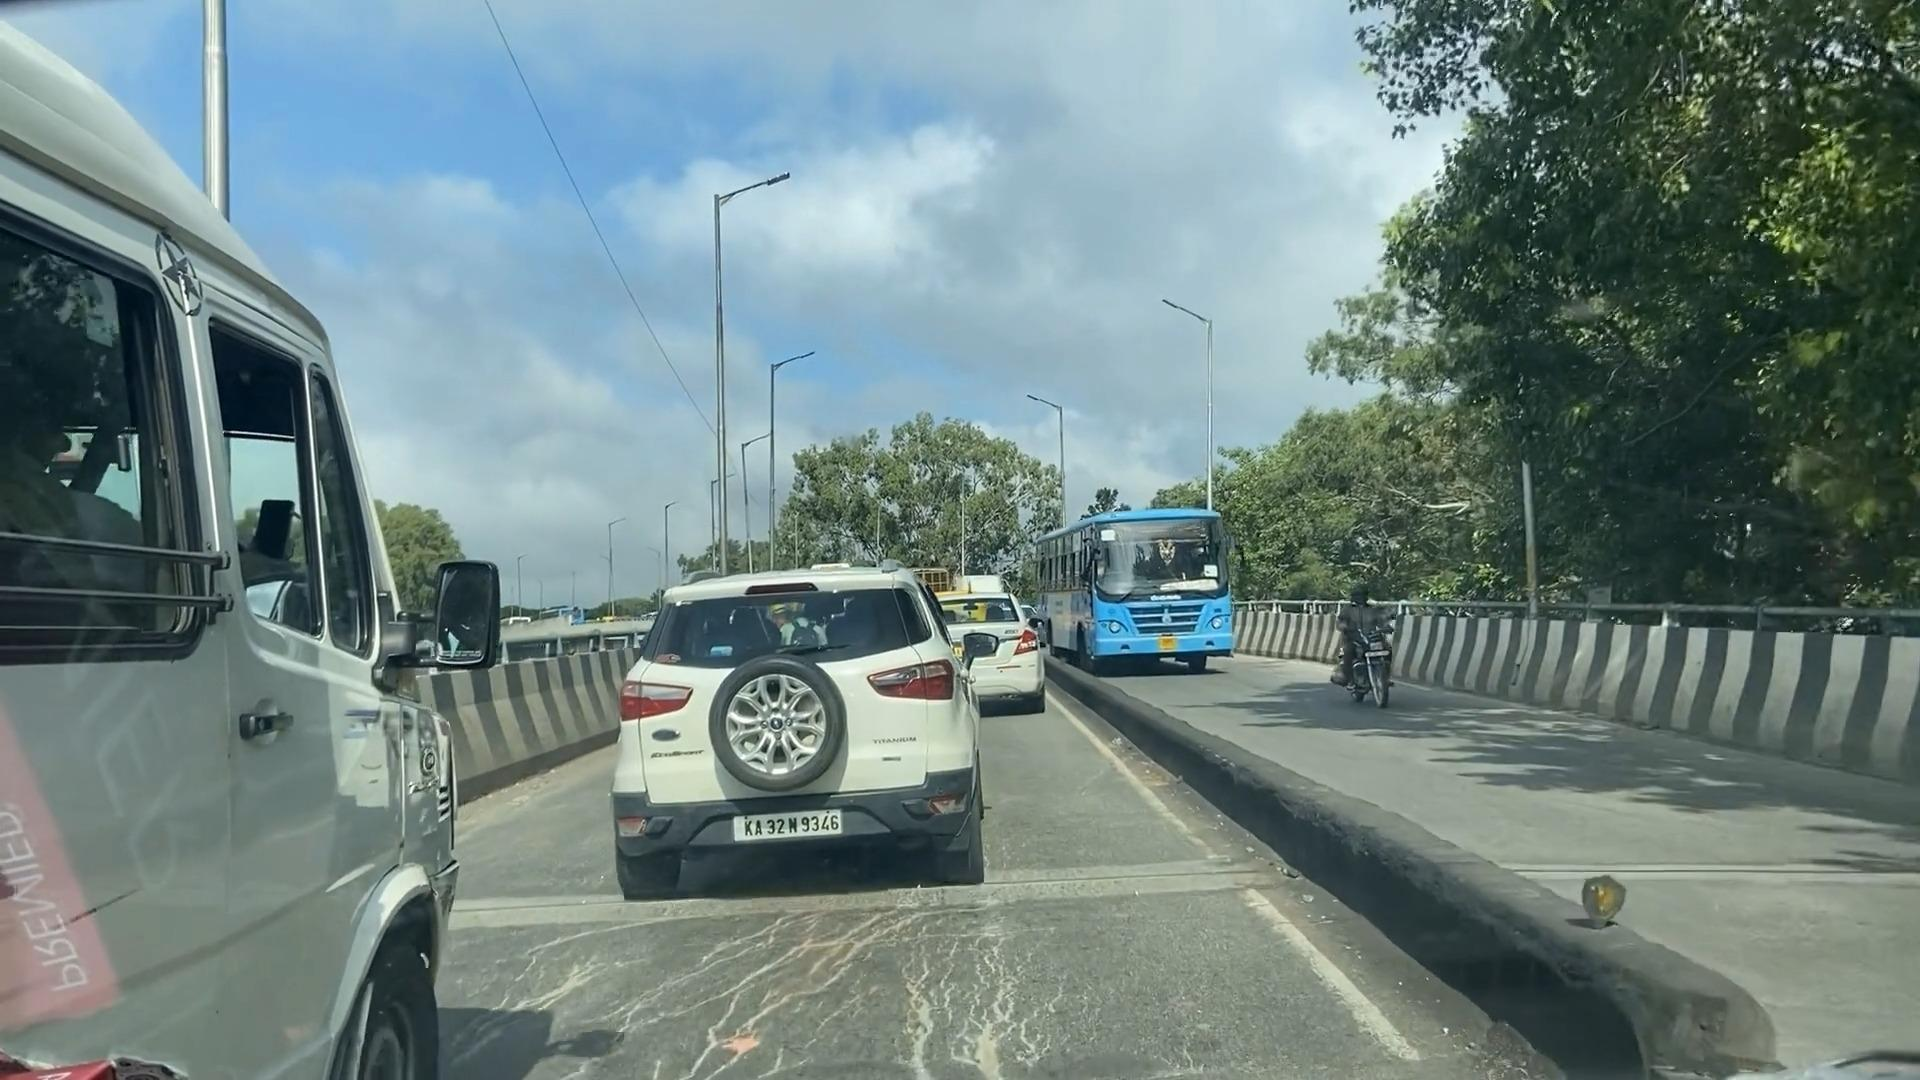LMV: (605, 567, 961, 898), (935, 596, 1044, 702)
RoadDamages: (510, 890, 1026, 1067)
SpeedBump: (460, 858, 1296, 932)
